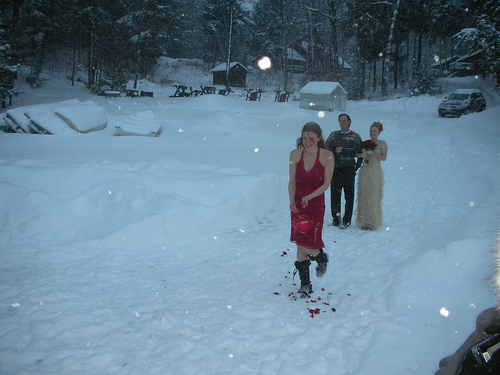without_mask: (301, 125, 322, 151), (337, 113, 352, 132), (369, 124, 382, 140)
